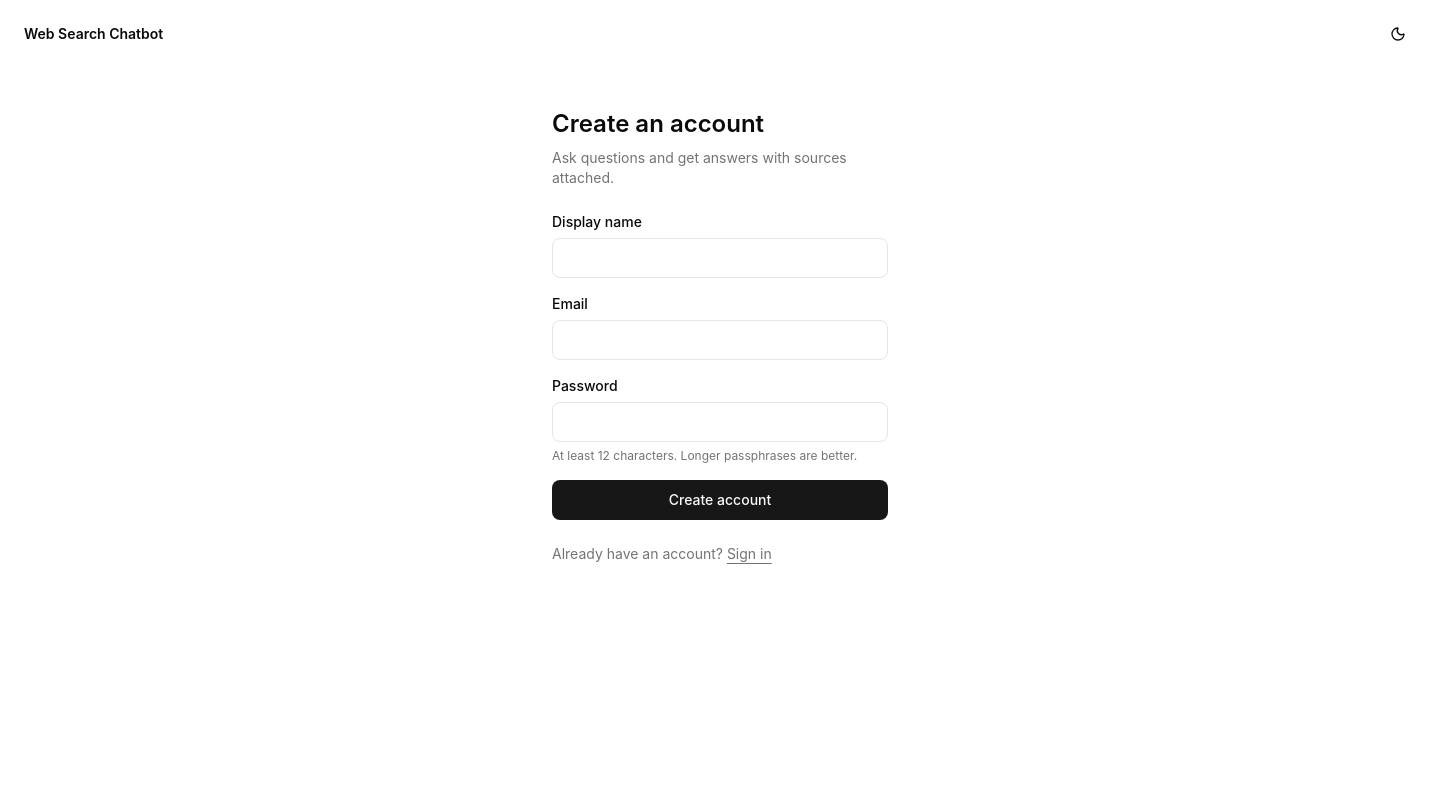
registration form › requires a password of at least 12 characters
The image size is (1440, 810).
Expected: the heading "Create an account" is shown, [552,109,764,138]
Type "Test User" into the field labelled "Display name" at (720, 258), box [552,238,888,278]
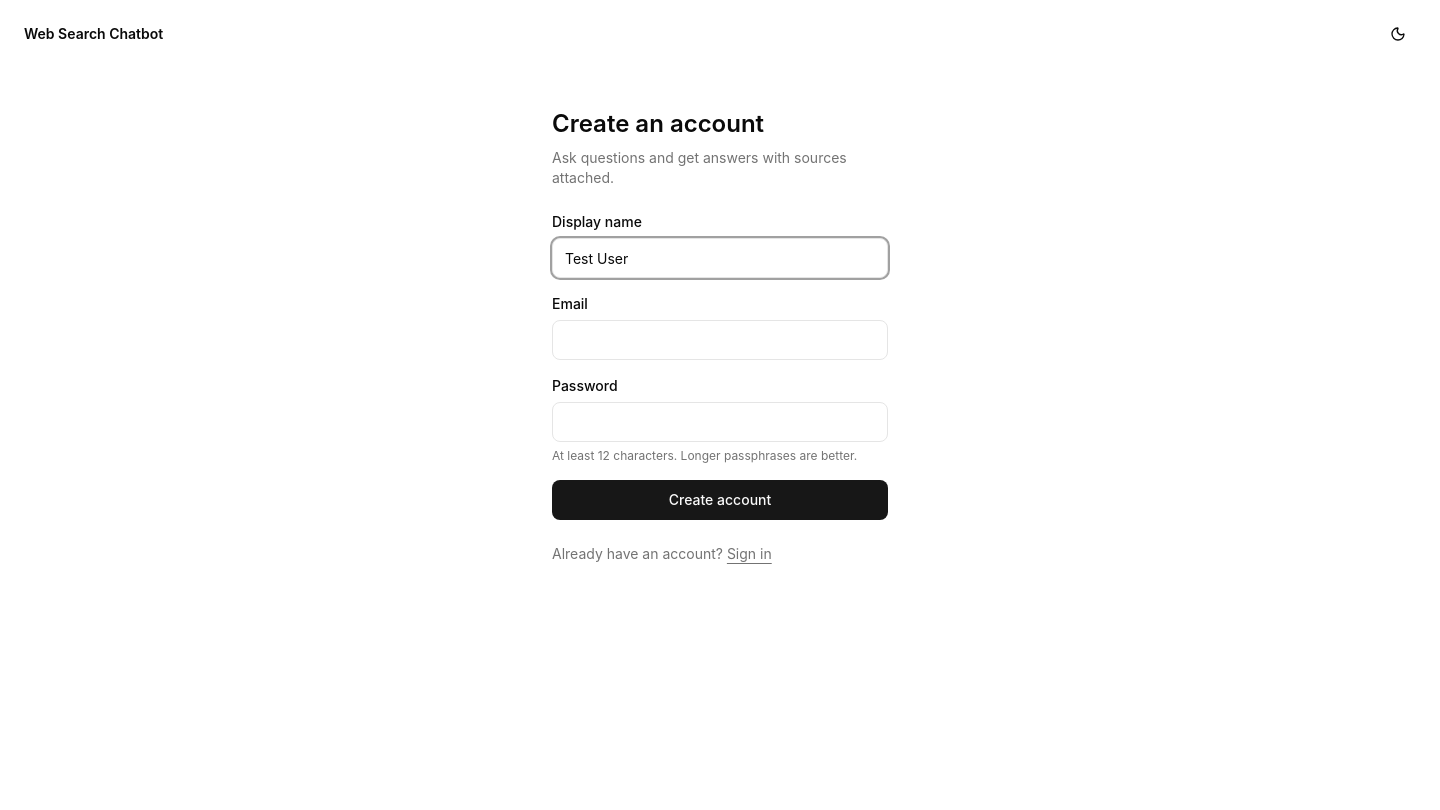
Type "user@example.com" into the field labelled "Email" at (720, 340), box [552,320,888,360]
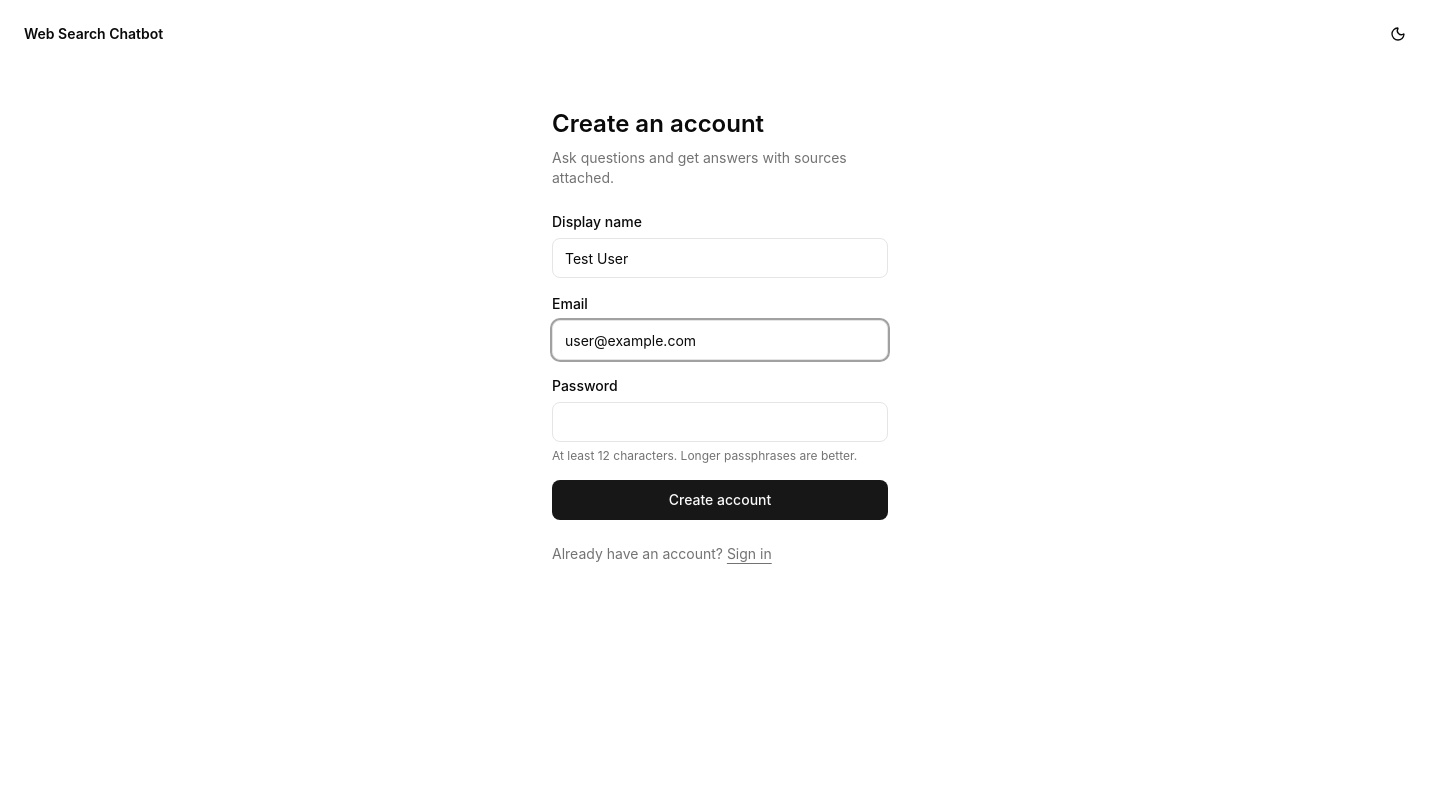
Type "short" into the password field labelled "Password" at (720, 422), box [552,402,888,442]
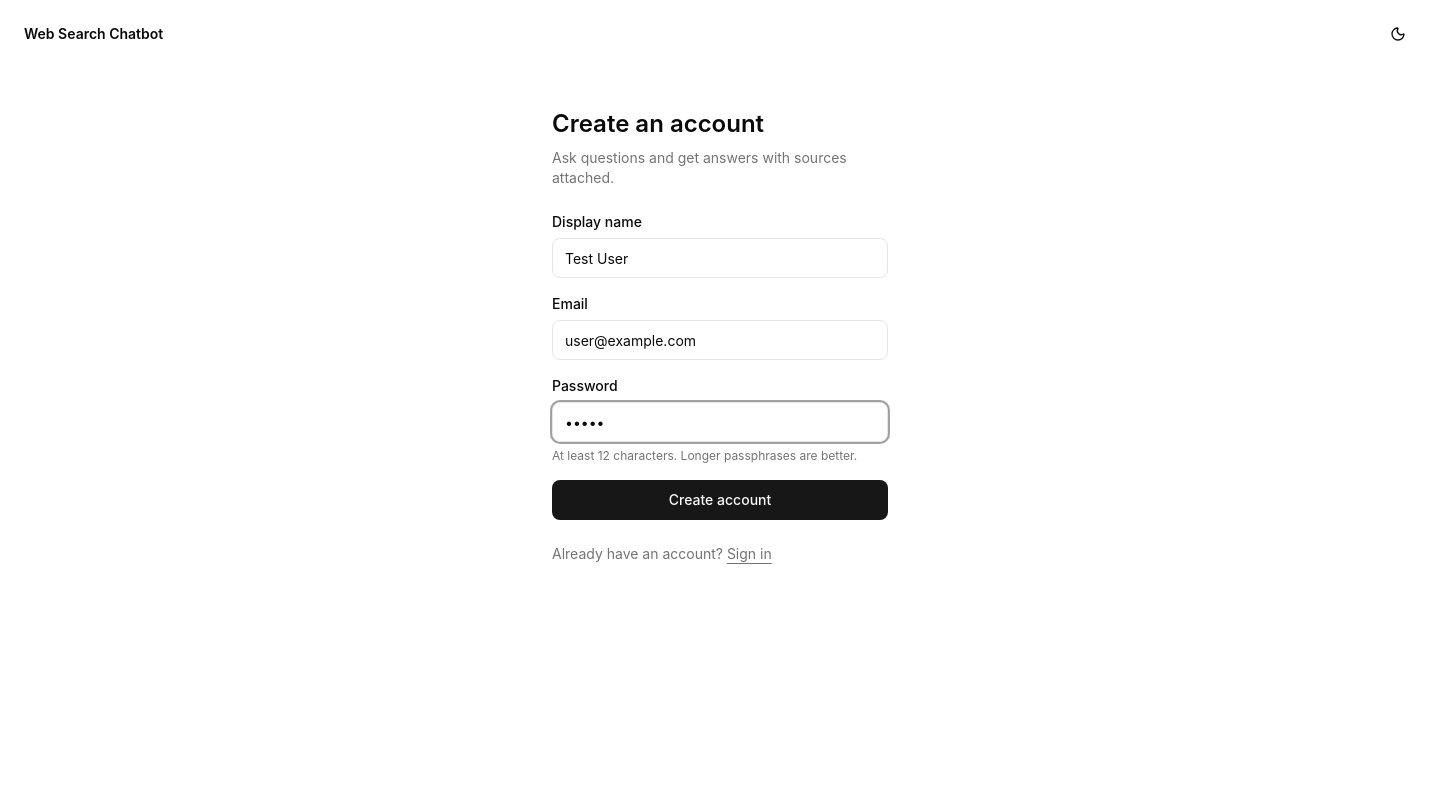
Click the button "Create account" at (720, 500), box [552,480,888,520]
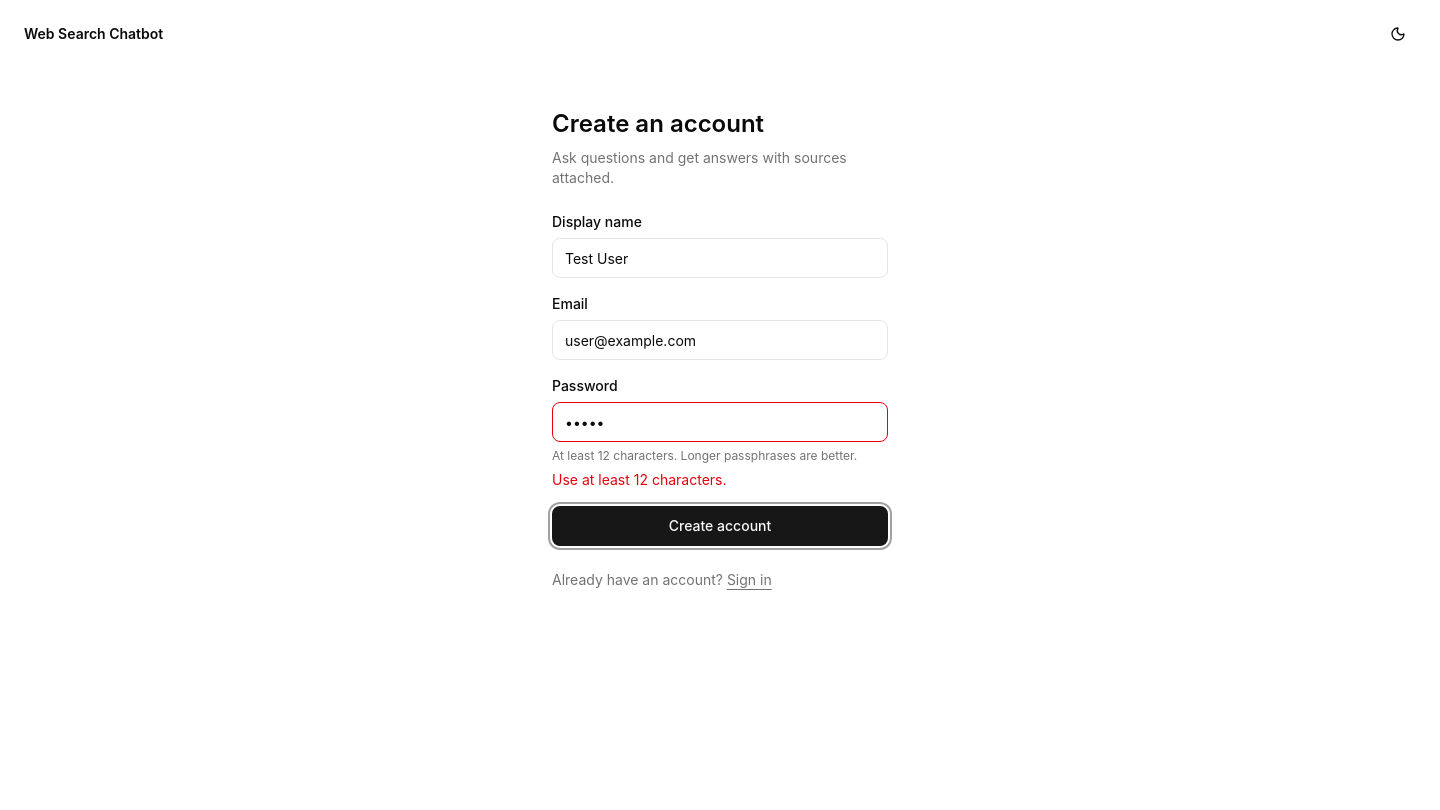
Now the text "Use at least 12 characters." is shown, box [552,471,726,488]
